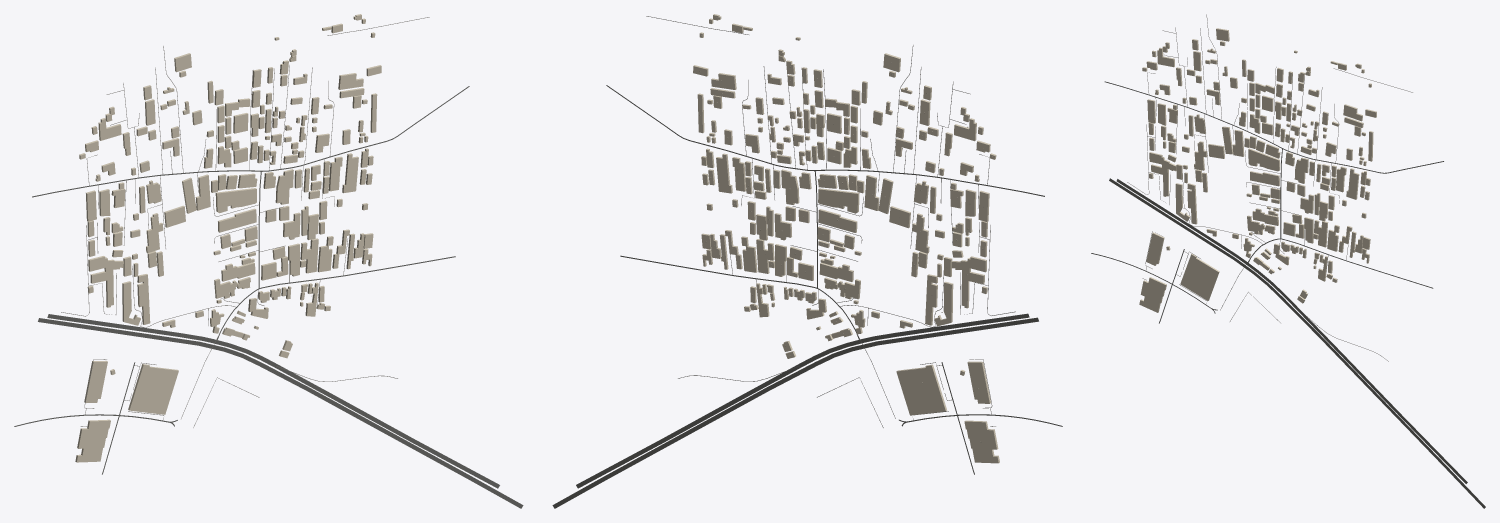
File: historic-palestine-08_27_3495_3211.glb
3 views of the same model, side by side, from view 1: azimuth 30°, elevation 25°; view 2: azimuth 150°, elevation 25°; view 3: azimuth 330°, elevation 25° (orthographic). The views are drawn at different scales.
Parts seen in each view (by area): view 1: Road חוצה שומרון.001, Road חוצה שומרון, Building_.022, Building_.023, Building_.114, Road, Building_.094, Building_.021; view 2: Road חוצה שומרון.001, Road חוצה שומרון, Building_.022, Building_.023, Building_.114, Building_.094, Road, Building_.021; view 3: Road חוצה שומרון.001, Road חוצה שומרון, Building_.022, Building_.023, Building_.114, Road, Building_.094.
Part boxes in pixels (bbox=[...]): Road חוצה שומרון.001: bbox=[38, 318, 523, 508]; Road חוצה שומרון: bbox=[47, 314, 499, 488]; Building_.022: bbox=[128, 364, 178, 414]; Building_.023: bbox=[75, 419, 110, 462]; Building_.114: bbox=[88, 256, 123, 307]; Road: bbox=[32, 86, 469, 197]; Building_.094: bbox=[215, 188, 256, 213]; Building_.021: bbox=[84, 360, 107, 402]; Road חוצה שומרון.001: bbox=[552, 317, 1038, 508]; Road חוצה שומרון: bbox=[576, 313, 1029, 488]; Building_.022: bbox=[896, 364, 947, 415]; Building_.023: bbox=[964, 420, 999, 463]; Building_.114: bbox=[951, 256, 986, 308]; Building_.094: bbox=[818, 188, 859, 213]; Road: bbox=[606, 85, 1044, 196]; Building_.021: bbox=[967, 361, 991, 403]; Road חוצה שומרון.001: bbox=[1109, 178, 1485, 508]; Road חוצה שומרון: bbox=[1116, 179, 1467, 483]; Building_.022: bbox=[1180, 254, 1219, 300]; Building_.023: bbox=[1139, 277, 1166, 312]; Building_.114: bbox=[1149, 152, 1176, 196]; Road: bbox=[1104, 81, 1443, 173]; Building_.094: bbox=[1248, 148, 1280, 171].
Bounding box in the file's own units: 1631 × 1686 × 8.7.
